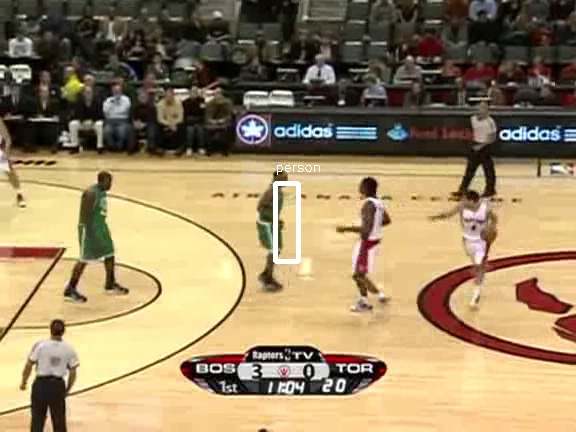person: (253, 182, 287, 263), (252, 182, 286, 263), (254, 182, 288, 263), (253, 181, 287, 262), (253, 183, 287, 264)
target_negative: (198, 6, 508, 105), (318, 381, 491, 424), (248, 425, 397, 431), (474, 24, 478, 139), (537, 382, 573, 389), (143, 430, 185, 432)
